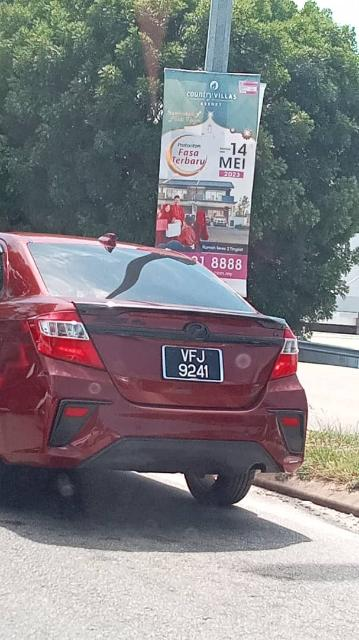License_Plate: (168, 344, 223, 385)
car: (2, 224, 319, 523)
